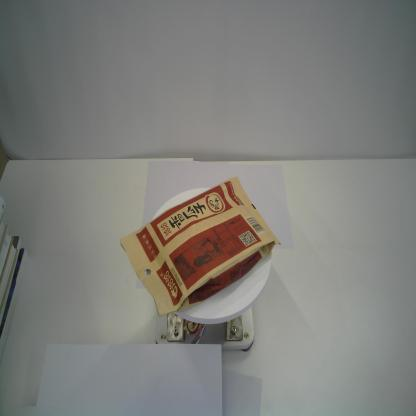Dried Food: (118, 174, 284, 320)
